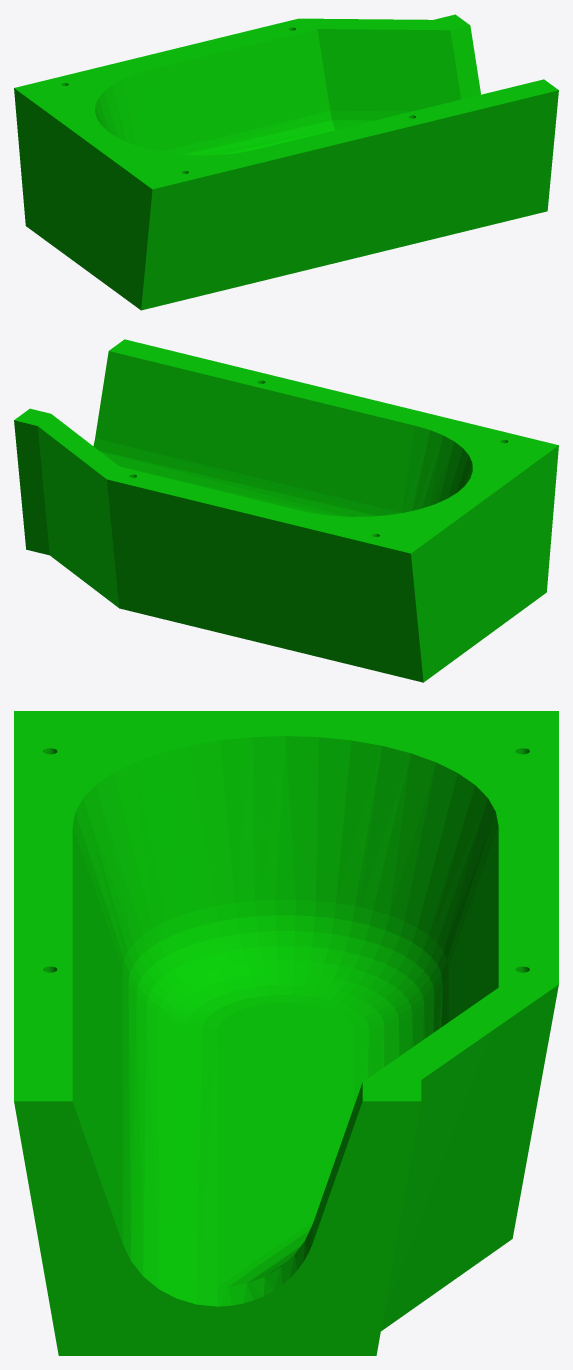
The model's file is piece1.dae.
The picture shows the model from 3 angles, top to bottom: view 1: azimuth 30°, elevation 25°; view 2: azimuth 150°, elevation 25°; view 3: azimuth 270°, elevation 25°; orthographic projection. The views are drawn at different scales.
Visible parts, largest first — view 1: ShapeIndexedFaceSet_003; view 2: ShapeIndexedFaceSet_003; view 3: ShapeIndexedFaceSet_003.
Part boxes in pixels (x1,y1,x2,y2): ShapeIndexedFaceSet_003: (14,14,558,310); ShapeIndexedFaceSet_003: (14,339,558,682); ShapeIndexedFaceSet_003: (14,711,558,1355).
Size of the model in its own units: 1.02 by 0.6015 by 0.31.
